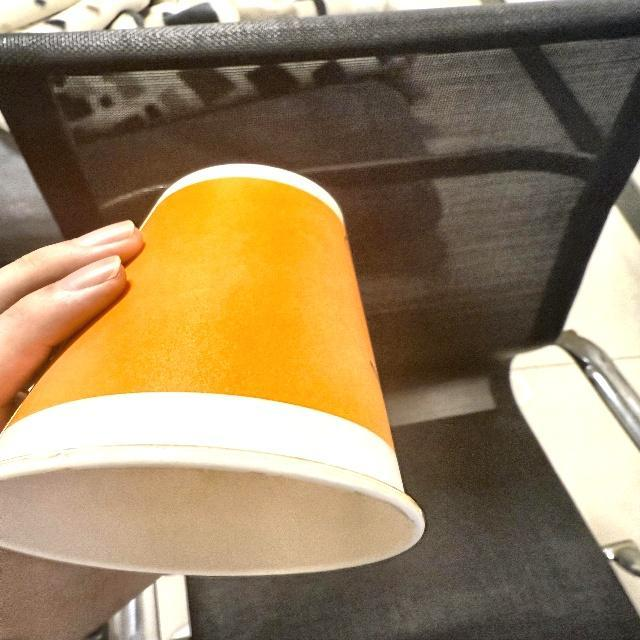paper_cup: (2, 158, 430, 579)
